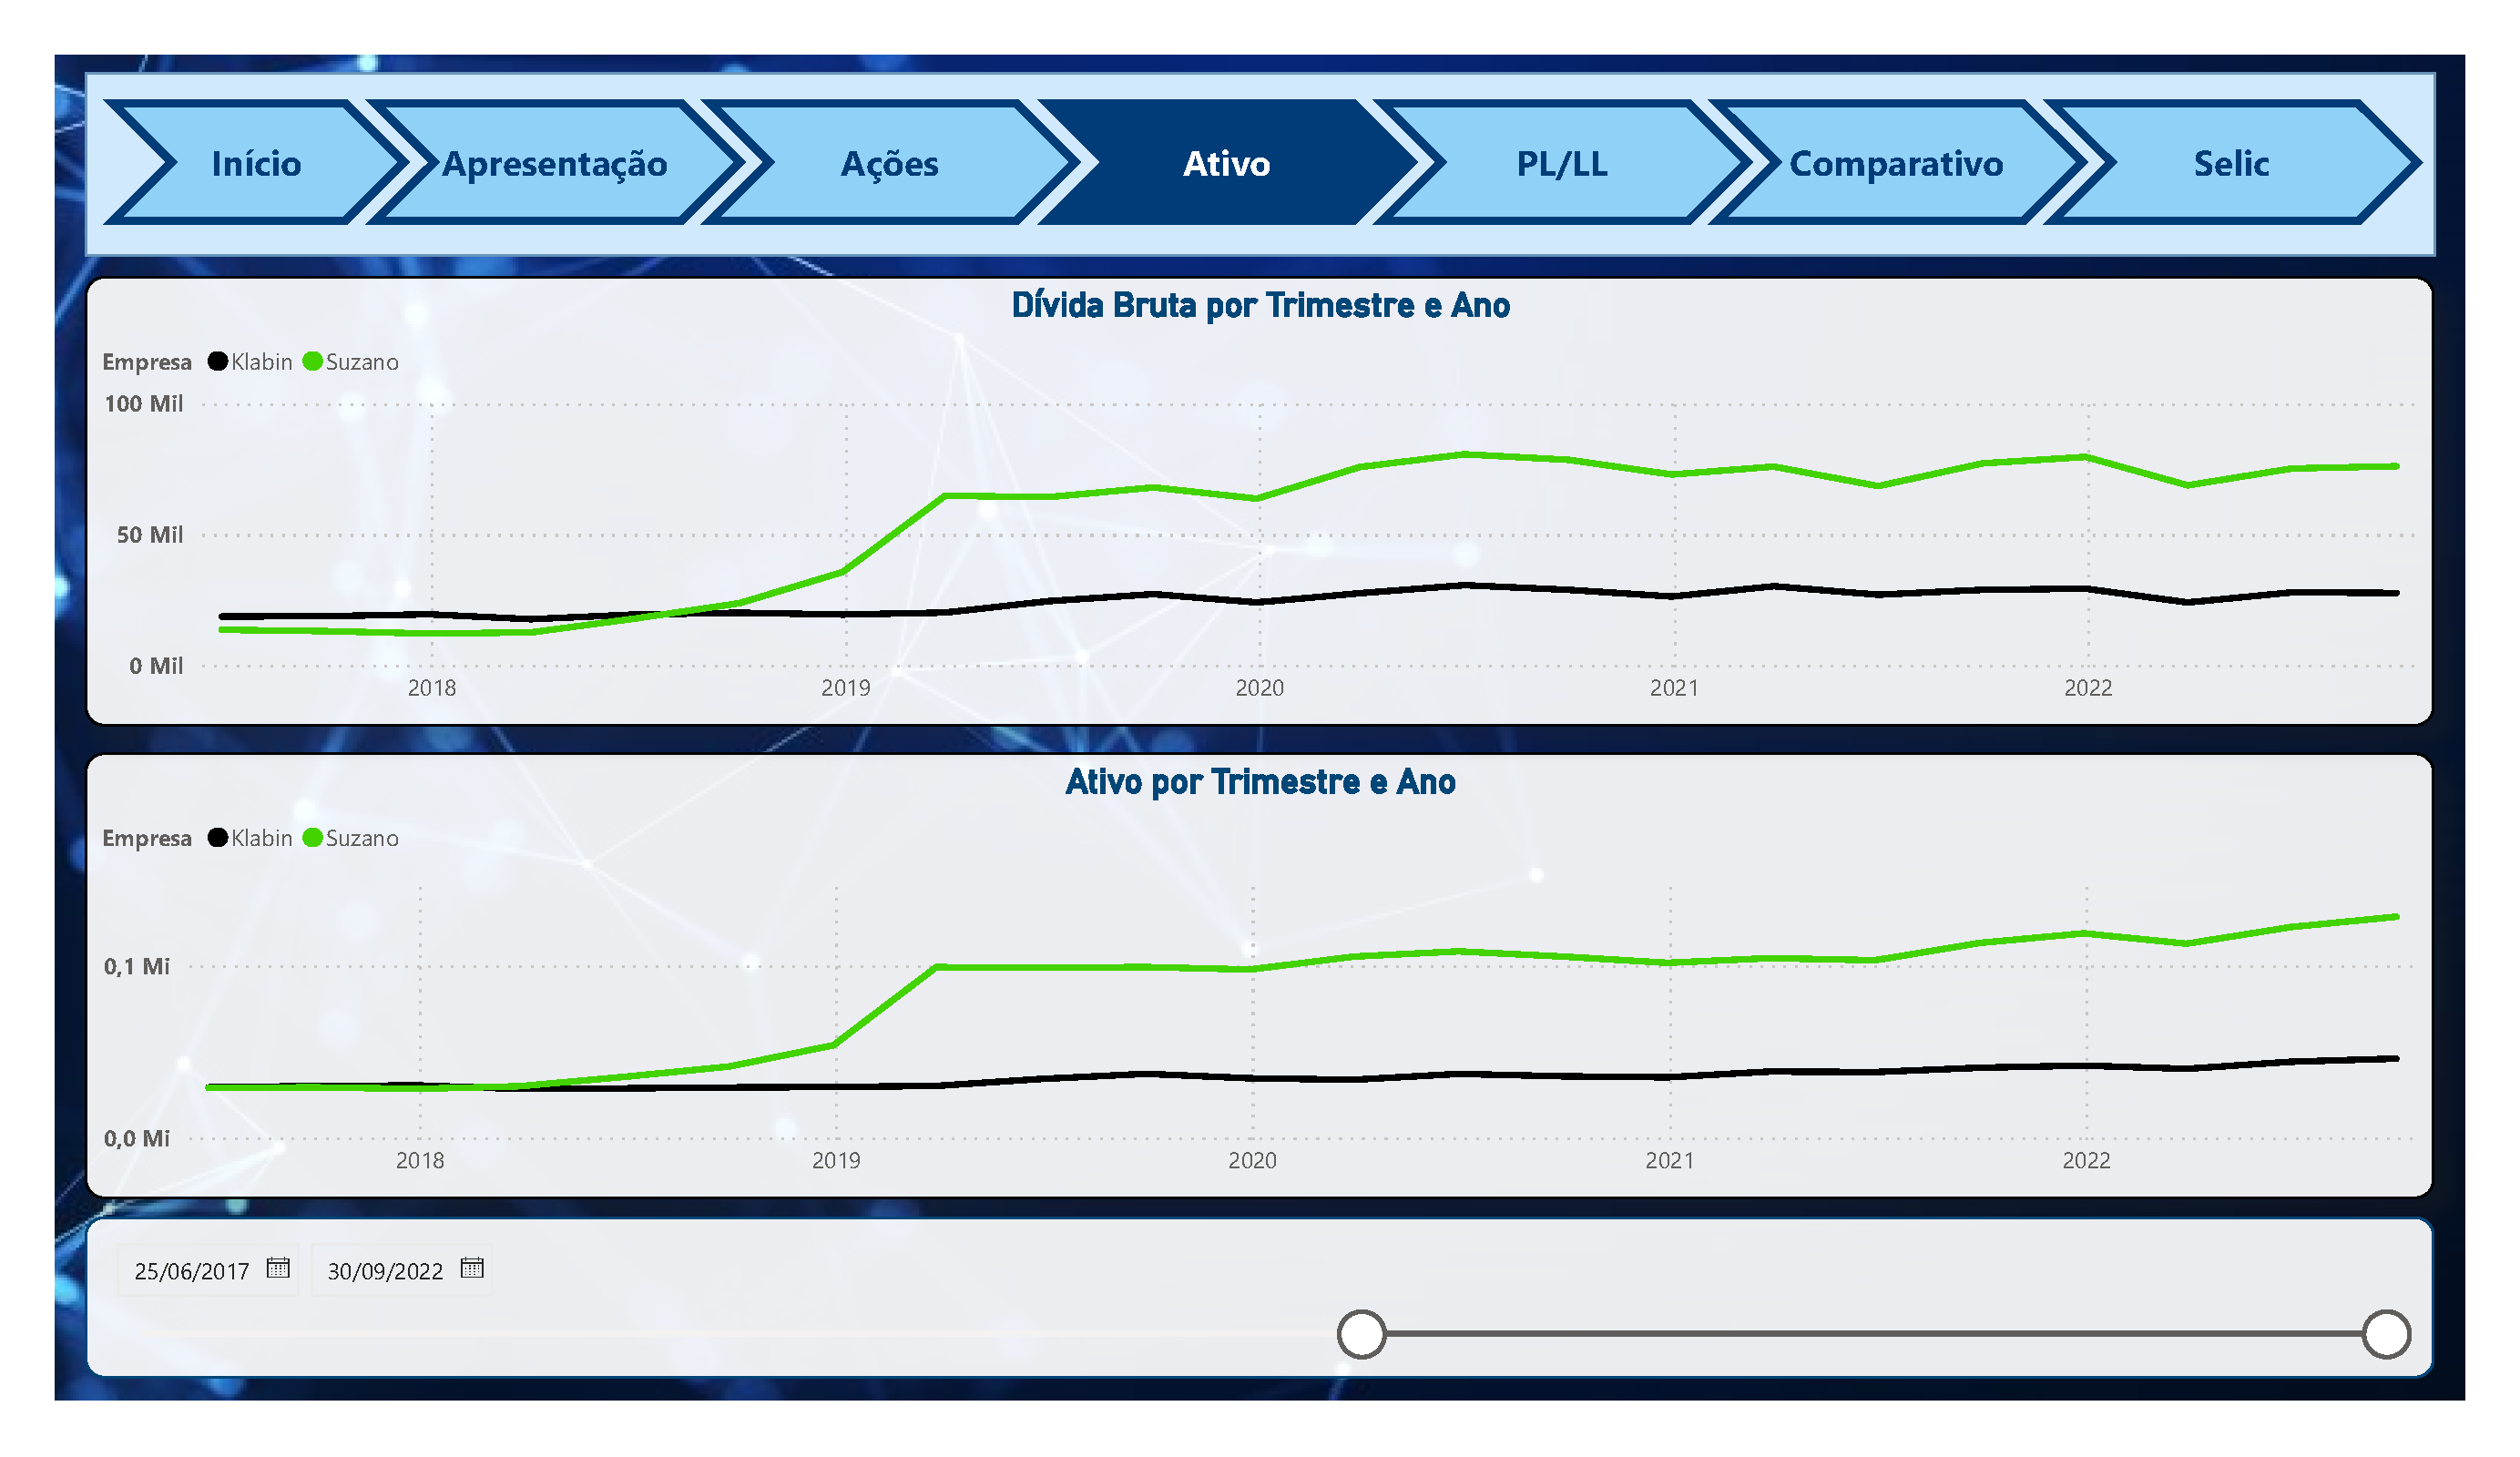

This screenshot's page, from the dashboard's own definition file:
{"tool":"powerbi","page":{"name":"Ativo","canvas":[1280,720],"ordinal":3},"visuals":[{"type":"image","box":[0,0,1280.3,719],"z":1000},{"type":"lineChart","title":"Ativo  por Trimestre e Ano","fields":{"Category":["Tudo.DataFechamento.Variation.Hierarquia de datas.Ano","Tudo.DataFechamento.Variation.Hierarquia de datas.Trimestre","Tudo.DataFechamento.Variation.Hierarquia de datas.Mês","Tudo.DataFechamento.Variation.Hierarquia de datas.Dia"],"Series":["Tudo.Empresa"],"Y":["Sum(Tudo.  Ativo Total)"]},"box":[20.6,373.2,1237.7,234.6],"z":2000},{"type":"lineChart","title":"Dívida Bruta por Trimestre e Ano","fields":{"Category":["Tudo.DataFechamento.Variation.Hierarquia de datas.Ano","Tudo.DataFechamento.Variation.Hierarquia de datas.Trimestre","Tudo.DataFechamento.Variation.Hierarquia de datas.Mês","Tudo.DataFechamento.Variation.Hierarquia de datas.Dia"],"Series":["Tudo.Empresa"],"Y":["Sum(Tudo.  Dívida bruta)"]},"box":[20.6,122.1,1237.7,237.4],"z":3000},{"type":"slicer","fields":{"Values":["Tudo.DataFechamento"]},"box":[20.6,617.5,1237.7,85.1],"z":4000},{"type":"shape","box":[20.6,13.7,1239.1,97.4],"z":11500},{"type":"shape","box":[30.9,29,161.4,66.2],"z":12000},{"type":"shape","box":[169.1,29,200,66.2],"z":12500},{"type":"shape","box":[345.9,29,200,66.2],"z":13000},{"type":"shape","box":[522.8,29,200,66.2],"z":13500},{"type":"shape","box":[699.6,29,200,66.2],"z":14000},{"type":"shape","box":[876.4,29,200,66.2],"z":14500},{"type":"shape","box":[1053.2,29,200,66.2],"z":15000}]}

Visuals, with their boxes on the page's 1280x720 design canvas (x1, y1, x2, y2). These are canvas units, not pixel positions in the 2520x1457 screenshot, which may show the page scaled, cropped or inside an application window:
image: <bbox>0, 0, 1280, 719</bbox>
"Ativo  por Trimestre e Ano" lineChart: <bbox>21, 373, 1258, 608</bbox>
"Dívida Bruta por Trimestre e Ano" lineChart: <bbox>21, 122, 1258, 360</bbox>
slicer - Tudo.DataFechamento: <bbox>21, 618, 1258, 703</bbox>
shape: <bbox>21, 14, 1260, 111</bbox>
shape: <bbox>31, 29, 192, 95</bbox>
shape: <bbox>169, 29, 369, 95</bbox>
shape: <bbox>346, 29, 546, 95</bbox>
shape: <bbox>523, 29, 723, 95</bbox>
shape: <bbox>700, 29, 900, 95</bbox>
shape: <bbox>876, 29, 1076, 95</bbox>
shape: <bbox>1053, 29, 1253, 95</bbox>
